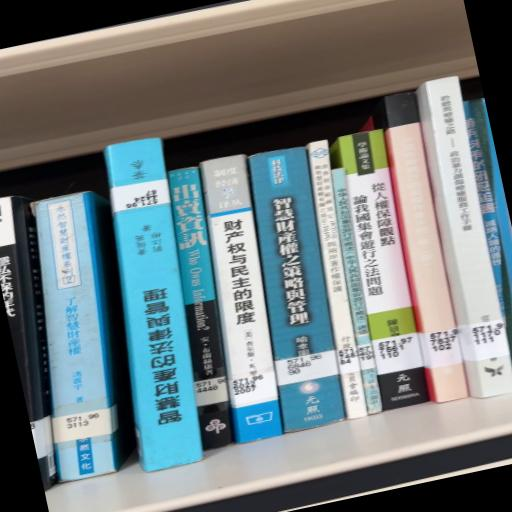book: (368, 92, 469, 403), (416, 77, 512, 398), (32, 192, 135, 482), (248, 147, 346, 433), (332, 130, 429, 411), (200, 155, 282, 443), (168, 168, 234, 450)
reverse: (105, 139, 204, 471)
